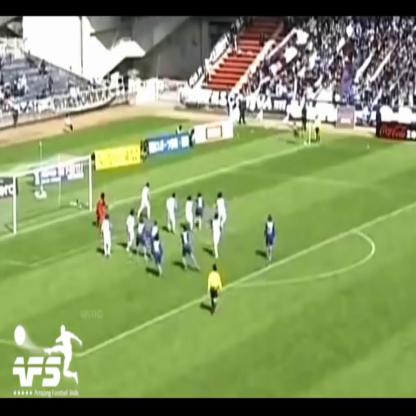corner kick: (282, 76, 341, 181)
